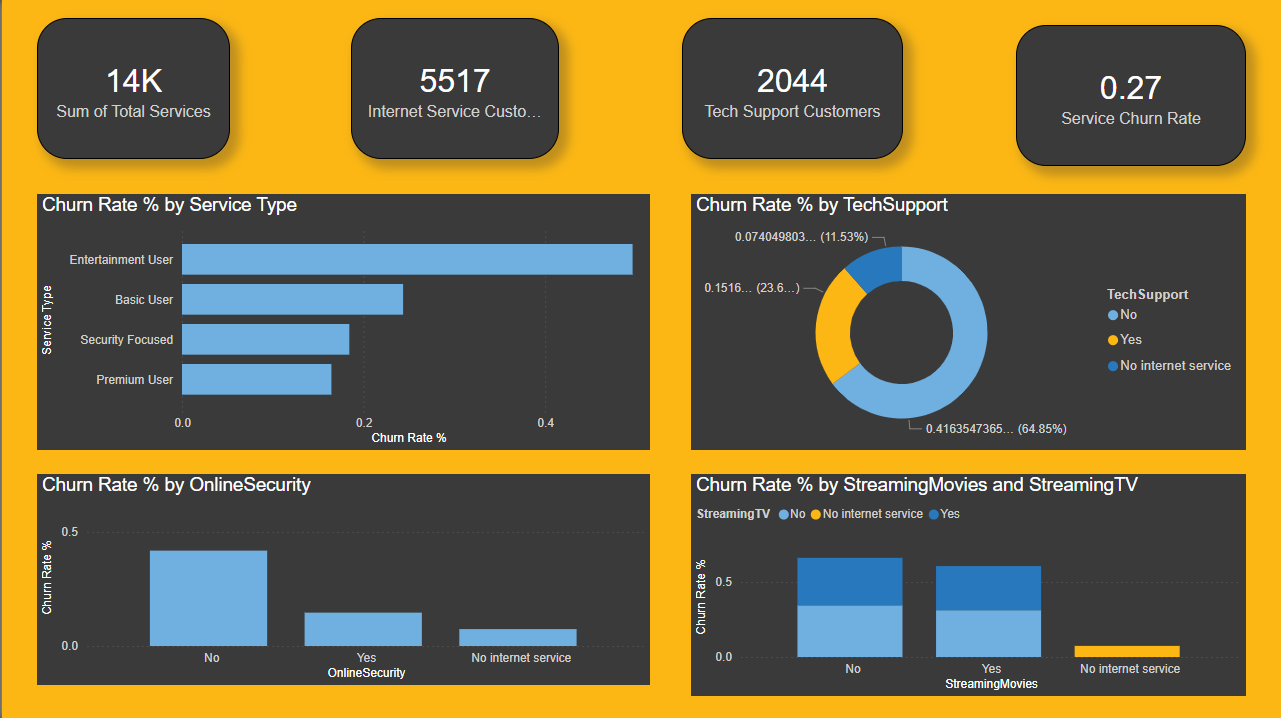

The page's visual inventory and layout, read from the dashboard file:
{"tool":"powerbi","page":{"name":"Service Usage & Customer Behavior Analysis","canvas":[1280,720],"ordinal":2},"visuals":[{"type":"card","fields":{"Values":["Sum(WA_Fn-UseC_-Telco-Customer-Churn.Total Services)"]},"box":[35,18,193,141],"z":0},{"type":"card","fields":{"Values":["WA_Fn-UseC_-Telco-Customer-Churn.Internet Service Customers"]},"box":[349,18,208,141],"z":1},{"type":"card","fields":{"Values":["WA_Fn-UseC_-Telco-Customer-Churn.Tech Support Customers"]},"box":[680,18,221,141],"z":2},{"type":"card","fields":{"Values":["WA_Fn-UseC_-Telco-Customer-Churn.Service Churn Rate"]},"box":[1014,25,230,141],"z":3},{"type":"clusteredBarChart","fields":{"Y":["WA_Fn-UseC_-Telco-Customer-Churn.Churn Rate %"],"Category":["WA_Fn-UseC_-Telco-Customer-Churn.Service Type"]},"box":[35,194,613,256],"z":4},{"type":"donutChart","fields":{"Category":["WA_Fn-UseC_-Telco-Customer-Churn.TechSupport"],"Y":["WA_Fn-UseC_-Telco-Customer-Churn.Churn Rate %"]},"box":[689,194,555,256],"z":5},{"type":"columnChart","fields":{"Y":["WA_Fn-UseC_-Telco-Customer-Churn.Churn Rate %"],"Category":["WA_Fn-UseC_-Telco-Customer-Churn.OnlineSecurity"]},"box":[35,474,613,211],"z":6},{"type":"columnChart","fields":{"Y":["WA_Fn-UseC_-Telco-Customer-Churn.Churn Rate %"],"Category":["WA_Fn-UseC_-Telco-Customer-Churn.StreamingMovies"],"Series":["WA_Fn-UseC_-Telco-Customer-Churn.StreamingTV"]},"box":[689,474,555,222],"z":7}]}

Visuals, with their boxes in screenshot pixels (x1, y1, x2, y2), scaled from the page's 1280x720 canvas onto the 1281x718 screenshot:
card - Sum(WA_Fn-UseC_-Telco-Customer-Churn.Total Services): Rect(35, 18, 228, 159)
card - WA_Fn-UseC_-Telco-Customer-Churn.Internet Service Customers: Rect(349, 18, 557, 159)
card - WA_Fn-UseC_-Telco-Customer-Churn.Tech Support Customers: Rect(681, 18, 902, 159)
card - WA_Fn-UseC_-Telco-Customer-Churn.Service Churn Rate: Rect(1015, 25, 1245, 166)
clusteredBarChart - WA_Fn-UseC_-Telco-Customer-Churn.Churn Rate % x WA_Fn-UseC_-Telco-Customer-Churn.Service Type: Rect(35, 193, 649, 449)
donutChart - WA_Fn-UseC_-Telco-Customer-Churn.TechSupport x WA_Fn-UseC_-Telco-Customer-Churn.Churn Rate %: Rect(690, 193, 1245, 449)
columnChart - WA_Fn-UseC_-Telco-Customer-Churn.Churn Rate % x WA_Fn-UseC_-Telco-Customer-Churn.OnlineSecurity: Rect(35, 473, 649, 683)
columnChart - WA_Fn-UseC_-Telco-Customer-Churn.Churn Rate % x WA_Fn-UseC_-Telco-Customer-Churn.StreamingMovies: Rect(690, 473, 1245, 694)
